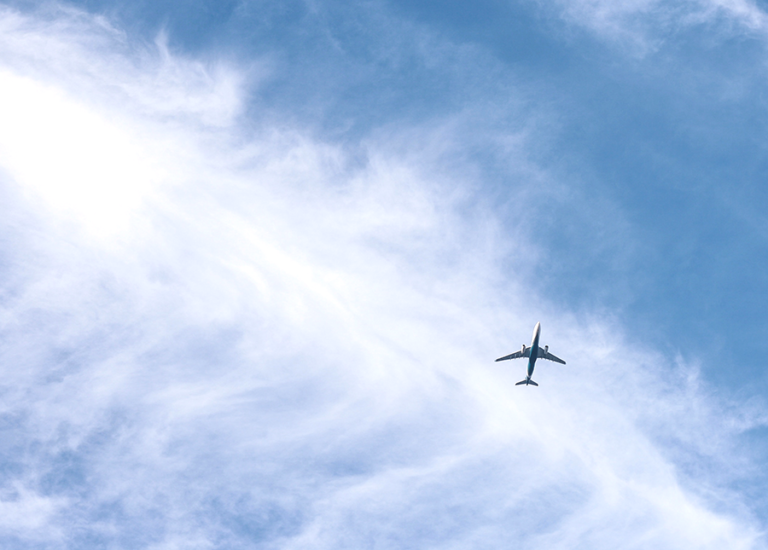aeroplane: (489, 294, 577, 428)
